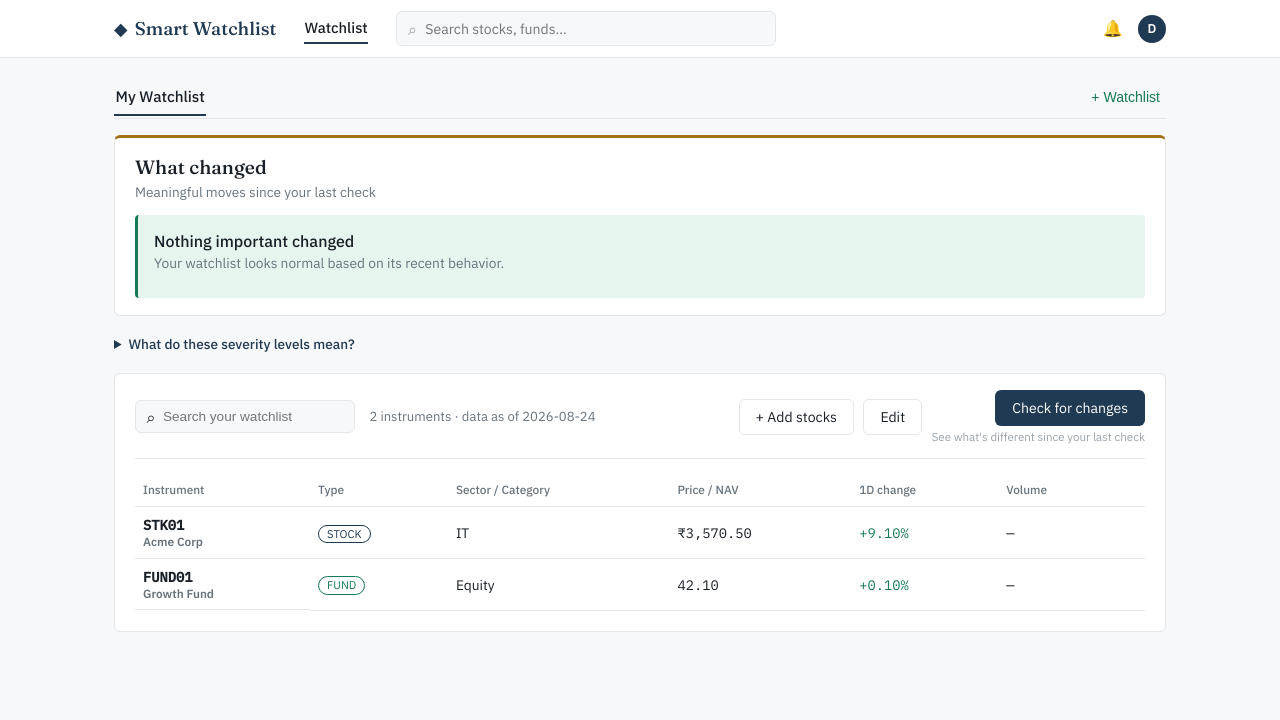
App — core user journey › opens the naming dialog, lets the user rename, and creates+switches to it
The width and height of the screenshot is (1280, 720).
Expected: the text "STK01" is shown, x1=143 y1=516 x2=184 y2=534
Click the button "+ Watchlist".
click(1126, 97)  # box x1=1085 y1=88 x2=1166 y2=106
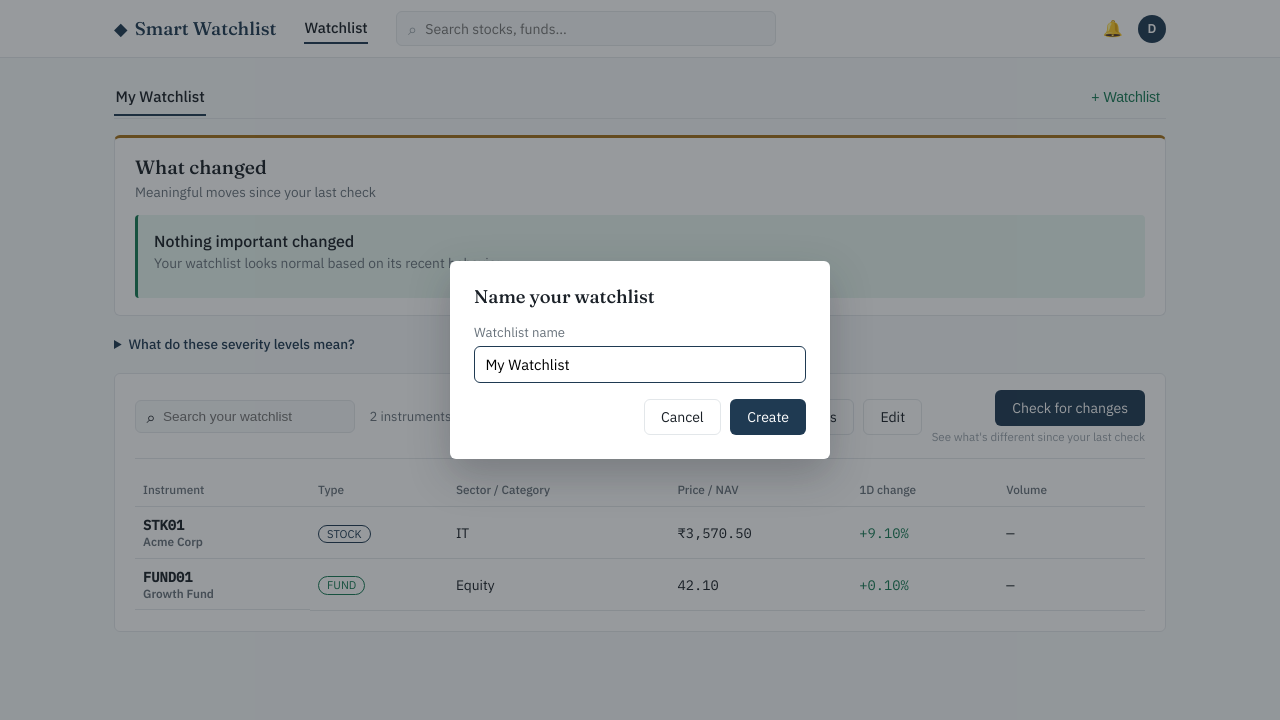
Expected: the field labelled "Watchlist name" holds "My Watchlist"
Replace the text in the field labelled "Watchlist name" with "Tech Picks" at (640, 365), box x1=474 y1=346 x2=806 y2=383
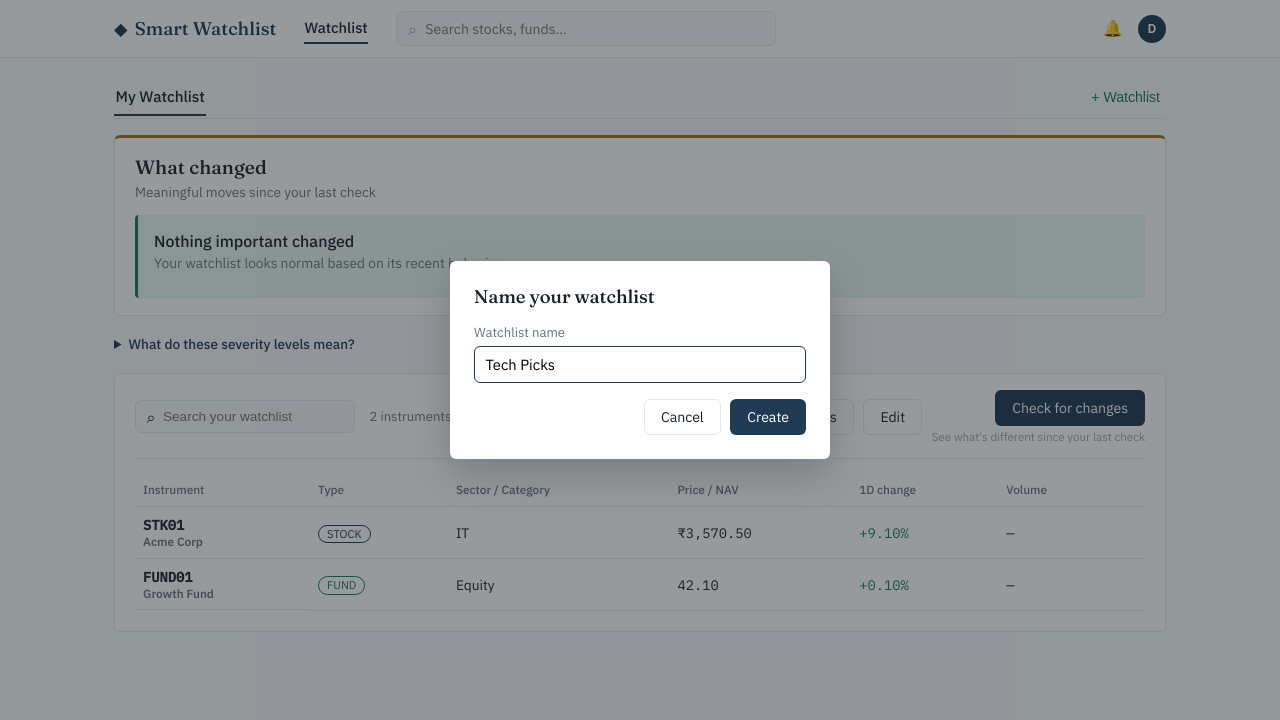
Click the button "Create".
click(768, 417)  # box x1=730 y1=399 x2=806 y2=435
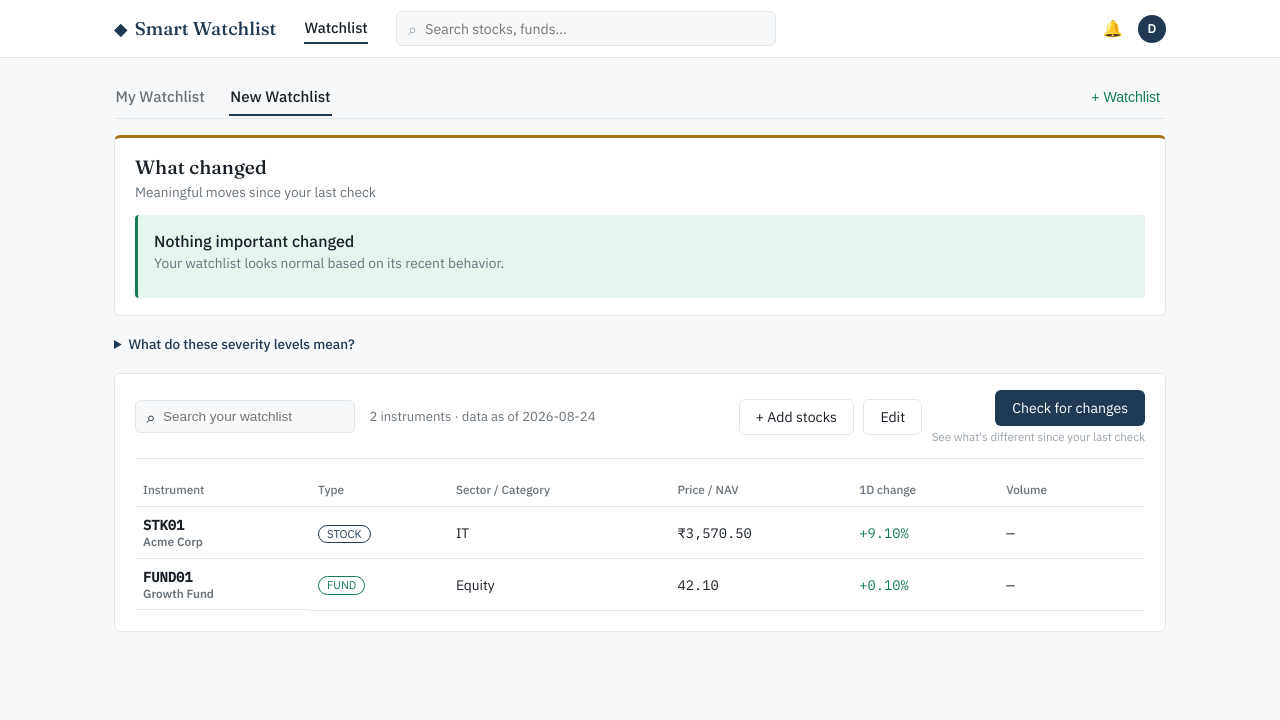
Expected: the tab "New Watchlist" is shown, x1=229 y1=78 x2=332 y2=116
Expected: the label labelled "Watchlist name" is gone
